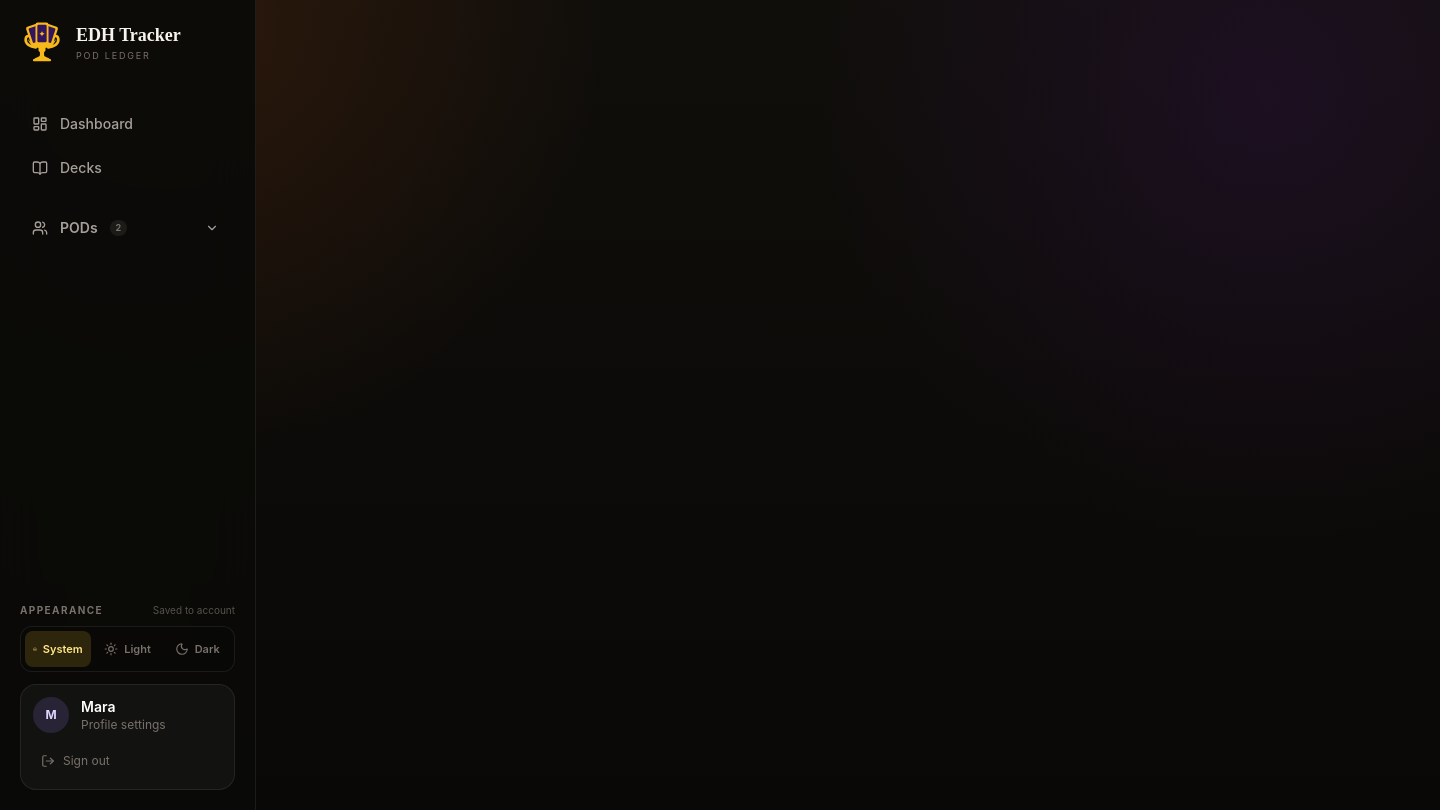
it: application navigation › shows joined PODs in a collapsible desktop menu
Click the heading "PODs 2". click: (126, 228)
box: [32, 219, 219, 236]
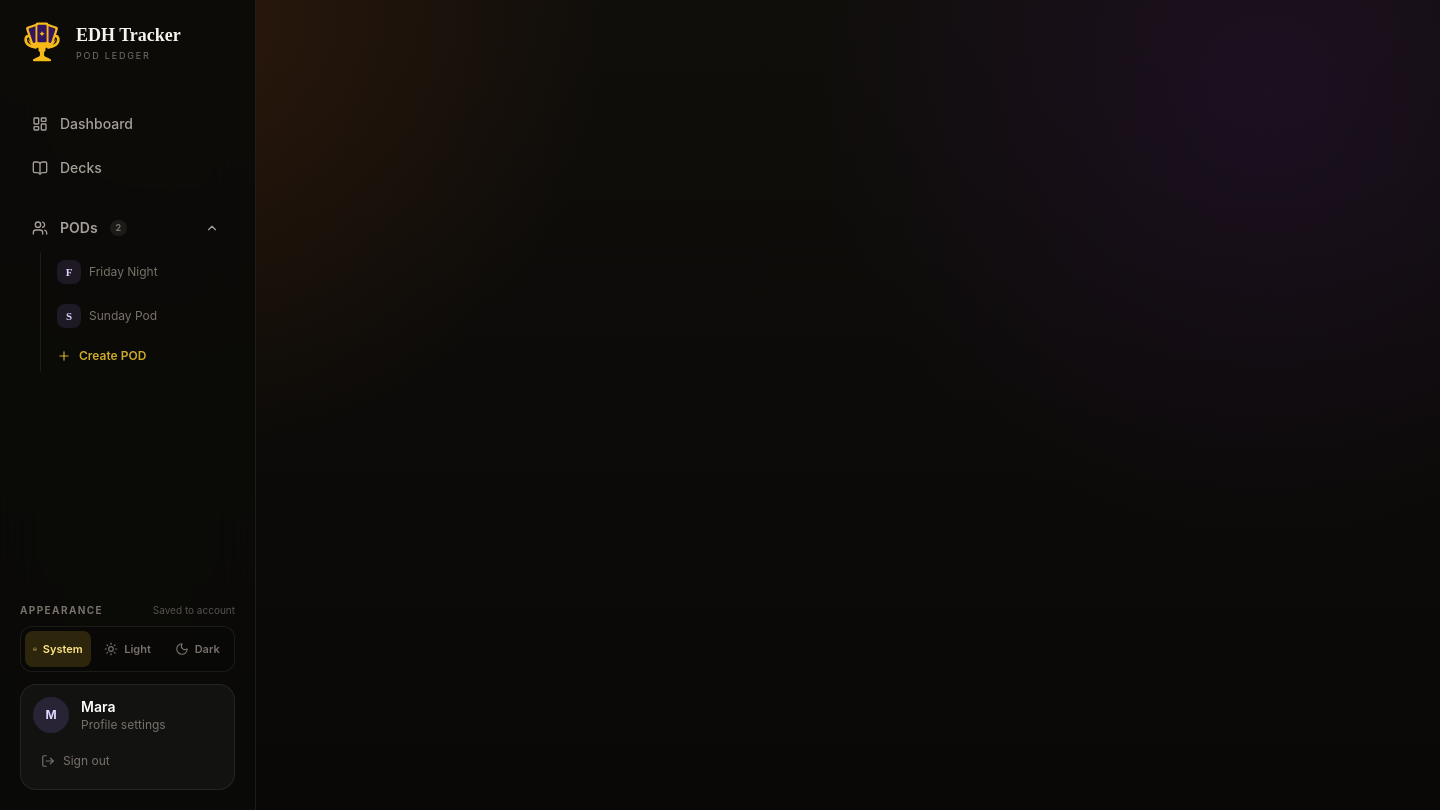
expect the link to "/pods/30000000-0000-4000-8000-000000000001" shows "Friday Night": met, box [57, 260, 158, 284]
expect the link to "/pods/30000000-0000-4000-8000-000000000002" shows "Sunday Pod": met, box [57, 304, 157, 328]
expect the link to "/pods/new" reads "Create POD": met, box [57, 348, 146, 363]
